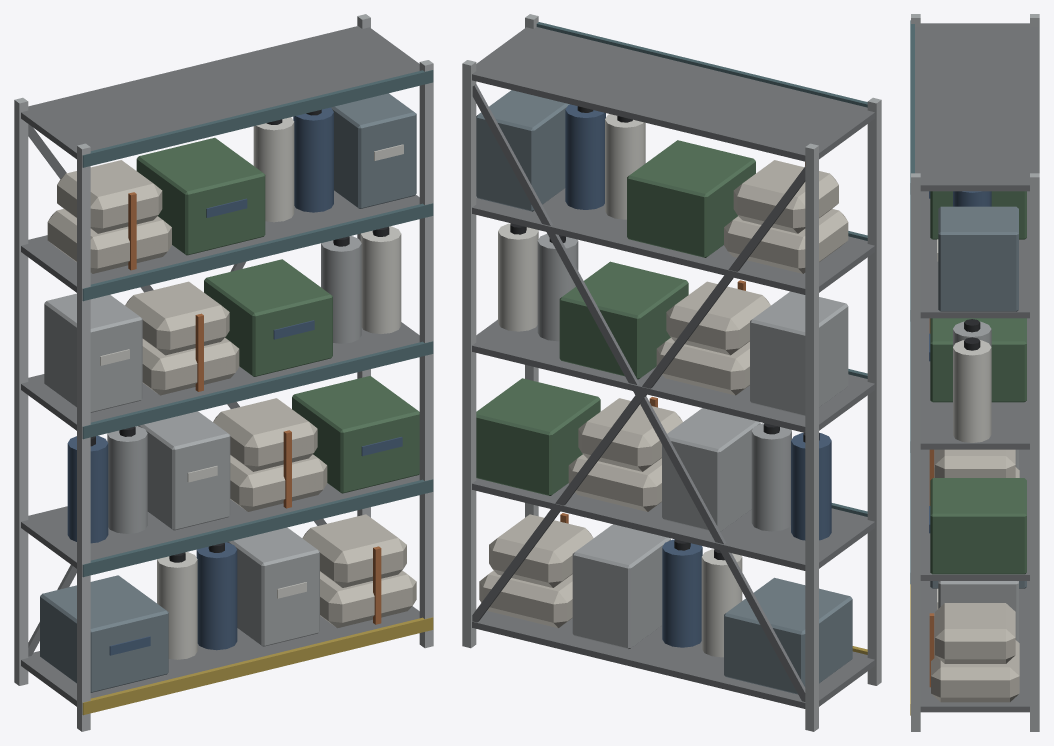
Rendered from astro_storage_shelf_tall.fbx.
3 views of the same model, side by side, from view 1: azimuth 30°, elevation 25°; view 2: azimuth 150°, elevation 25°; view 3: azimuth 270°, elevation 25° (orthographic). The views are drawn at different scales.
Visible parts, largest first — view 1: StorageShelfTall_Body; view 2: StorageShelfTall_Body; view 3: StorageShelfTall_Body.
Boxes of the visible parts, bbox=[...] form: StorageShelfTall_Body: bbox=[14, 14, 433, 731]; StorageShelfTall_Body: bbox=[462, 14, 881, 731]; StorageShelfTall_Body: bbox=[910, 14, 1039, 731].
Bounding box in the file's own units: 240 × 380 × 80.5.
